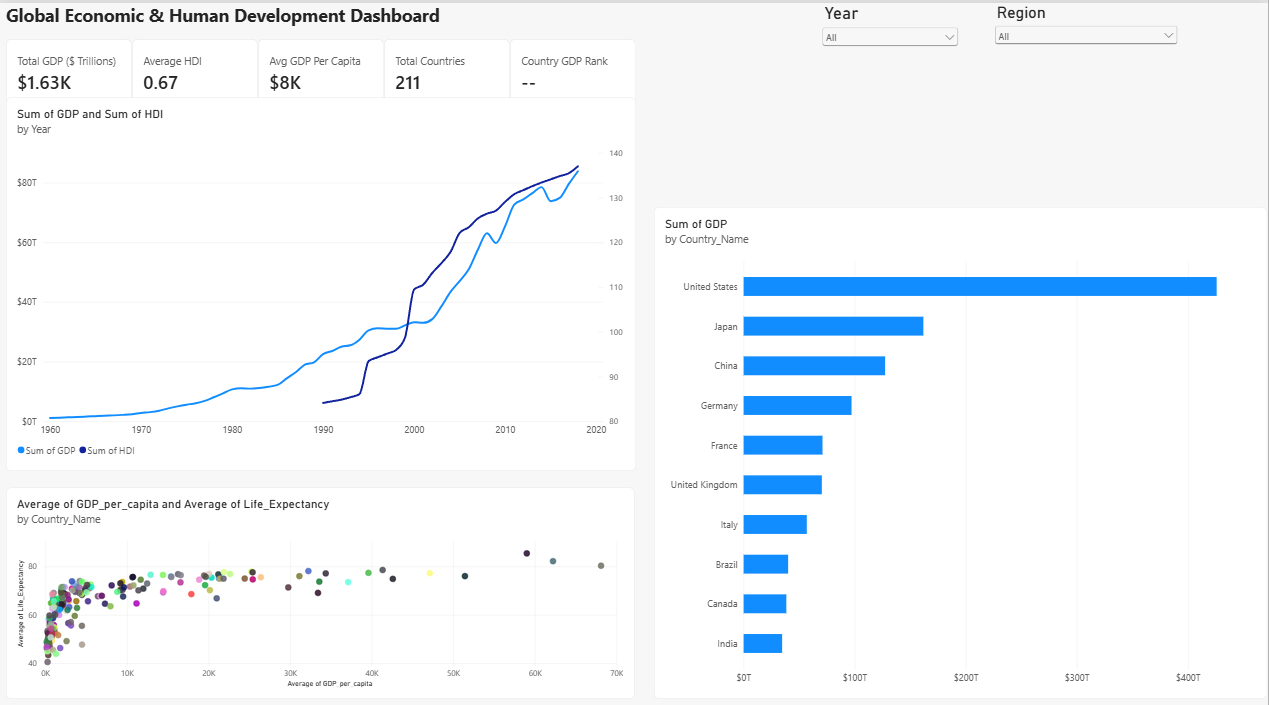

The page's visual inventory and layout, read from the dashboard file:
{"tool":"powerbi","page":{"name":"Page 1","canvas":[1920,1080],"ordinal":0},"visuals":[{"type":"textbox","box":[9.1,0,951.7,68.1],"z":0},{"type":"slicer","fields":{"Values":["world_indicators_cleaned.Year"]},"box":[1240.1,0,215.8,68.1],"z":1000},{"type":"slicer","fields":{"Values":["world_indicators_cleaned.Region"]},"box":[1501.3,0,286.2,68.1],"z":2000},{"type":"cardVisual","fields":{"Data":["_Measures.Total GDP"]},"box":[9.1,55.3,190.8,104.5],"z":3000},{"type":"cardVisual","fields":{"Data":["_Measures.Average HDI"]},"box":[199.9,55.3,190.8,104.5],"z":3001},{"type":"cardVisual","fields":{"Data":["_Measures.Avg GDP Per Capita"]},"box":[390.7,55.3,190.8,104.5],"z":3002},{"type":"cardVisual","fields":{"Data":["_Measures.Total Countries"]},"box":[581.5,55.3,190.8,104.5],"z":3003},{"type":"cardVisual","fields":{"Data":["_Measures.Country GDP Rank"]},"box":[772.2,55.3,190.8,104.5],"z":3004},{"type":"lineChart","fields":{"Category":["world_indicators_cleaned.Year"],"Y":["Sum(world_indicators_cleaned.GDP)"],"Y2":["Sum(world_indicators_cleaned.HDI)"]},"box":[9.1,143.1,953.9,565.6],"z":3005},{"type":"clusteredBarChart","fields":{"Category":["world_indicators_cleaned.Country_Name"],"Y":["Sum(world_indicators_cleaned.GDP)"]},"box":[990.3,308.9,929,745],"z":3006},{"type":"scatterChart","fields":{"X":["Avg(world_indicators_cleaned.GDP_per_capita)"],"Y":["Avg(world_indicators_cleaned.Life_Expectancy)"],"Series":["world_indicators_cleaned.Country_Name"]},"box":[9.1,733.6,951.7,320.3],"z":3007}]}

Visuals, with their boxes in screenshot pixels (x1, y1, x2, y2), scaled from the page's 1920x1080 canvas onto the 1269x705 screenshot:
textbox: box=[6, 0, 635, 44]
slicer - world_indicators_cleaned.Year: box=[820, 0, 962, 44]
slicer - world_indicators_cleaned.Region: box=[992, 0, 1181, 44]
cardVisual - _Measures.Total GDP: box=[6, 36, 132, 104]
cardVisual - _Measures.Average HDI: box=[132, 36, 258, 104]
cardVisual - _Measures.Avg GDP Per Capita: box=[258, 36, 384, 104]
cardVisual - _Measures.Total Countries: box=[384, 36, 510, 104]
cardVisual - _Measures.Country GDP Rank: box=[510, 36, 636, 104]
lineChart - world_indicators_cleaned.Year x Sum(world_indicators_cleaned.GDP): box=[6, 93, 636, 463]
clusteredBarChart - world_indicators_cleaned.Country_Name x Sum(world_indicators_cleaned.GDP): box=[655, 202, 1268, 688]
scatterChart - Avg(world_indicators_cleaned.GDP_per_capita) x Avg(world_indicators_cleaned.Life_Expectancy): box=[6, 479, 635, 688]
